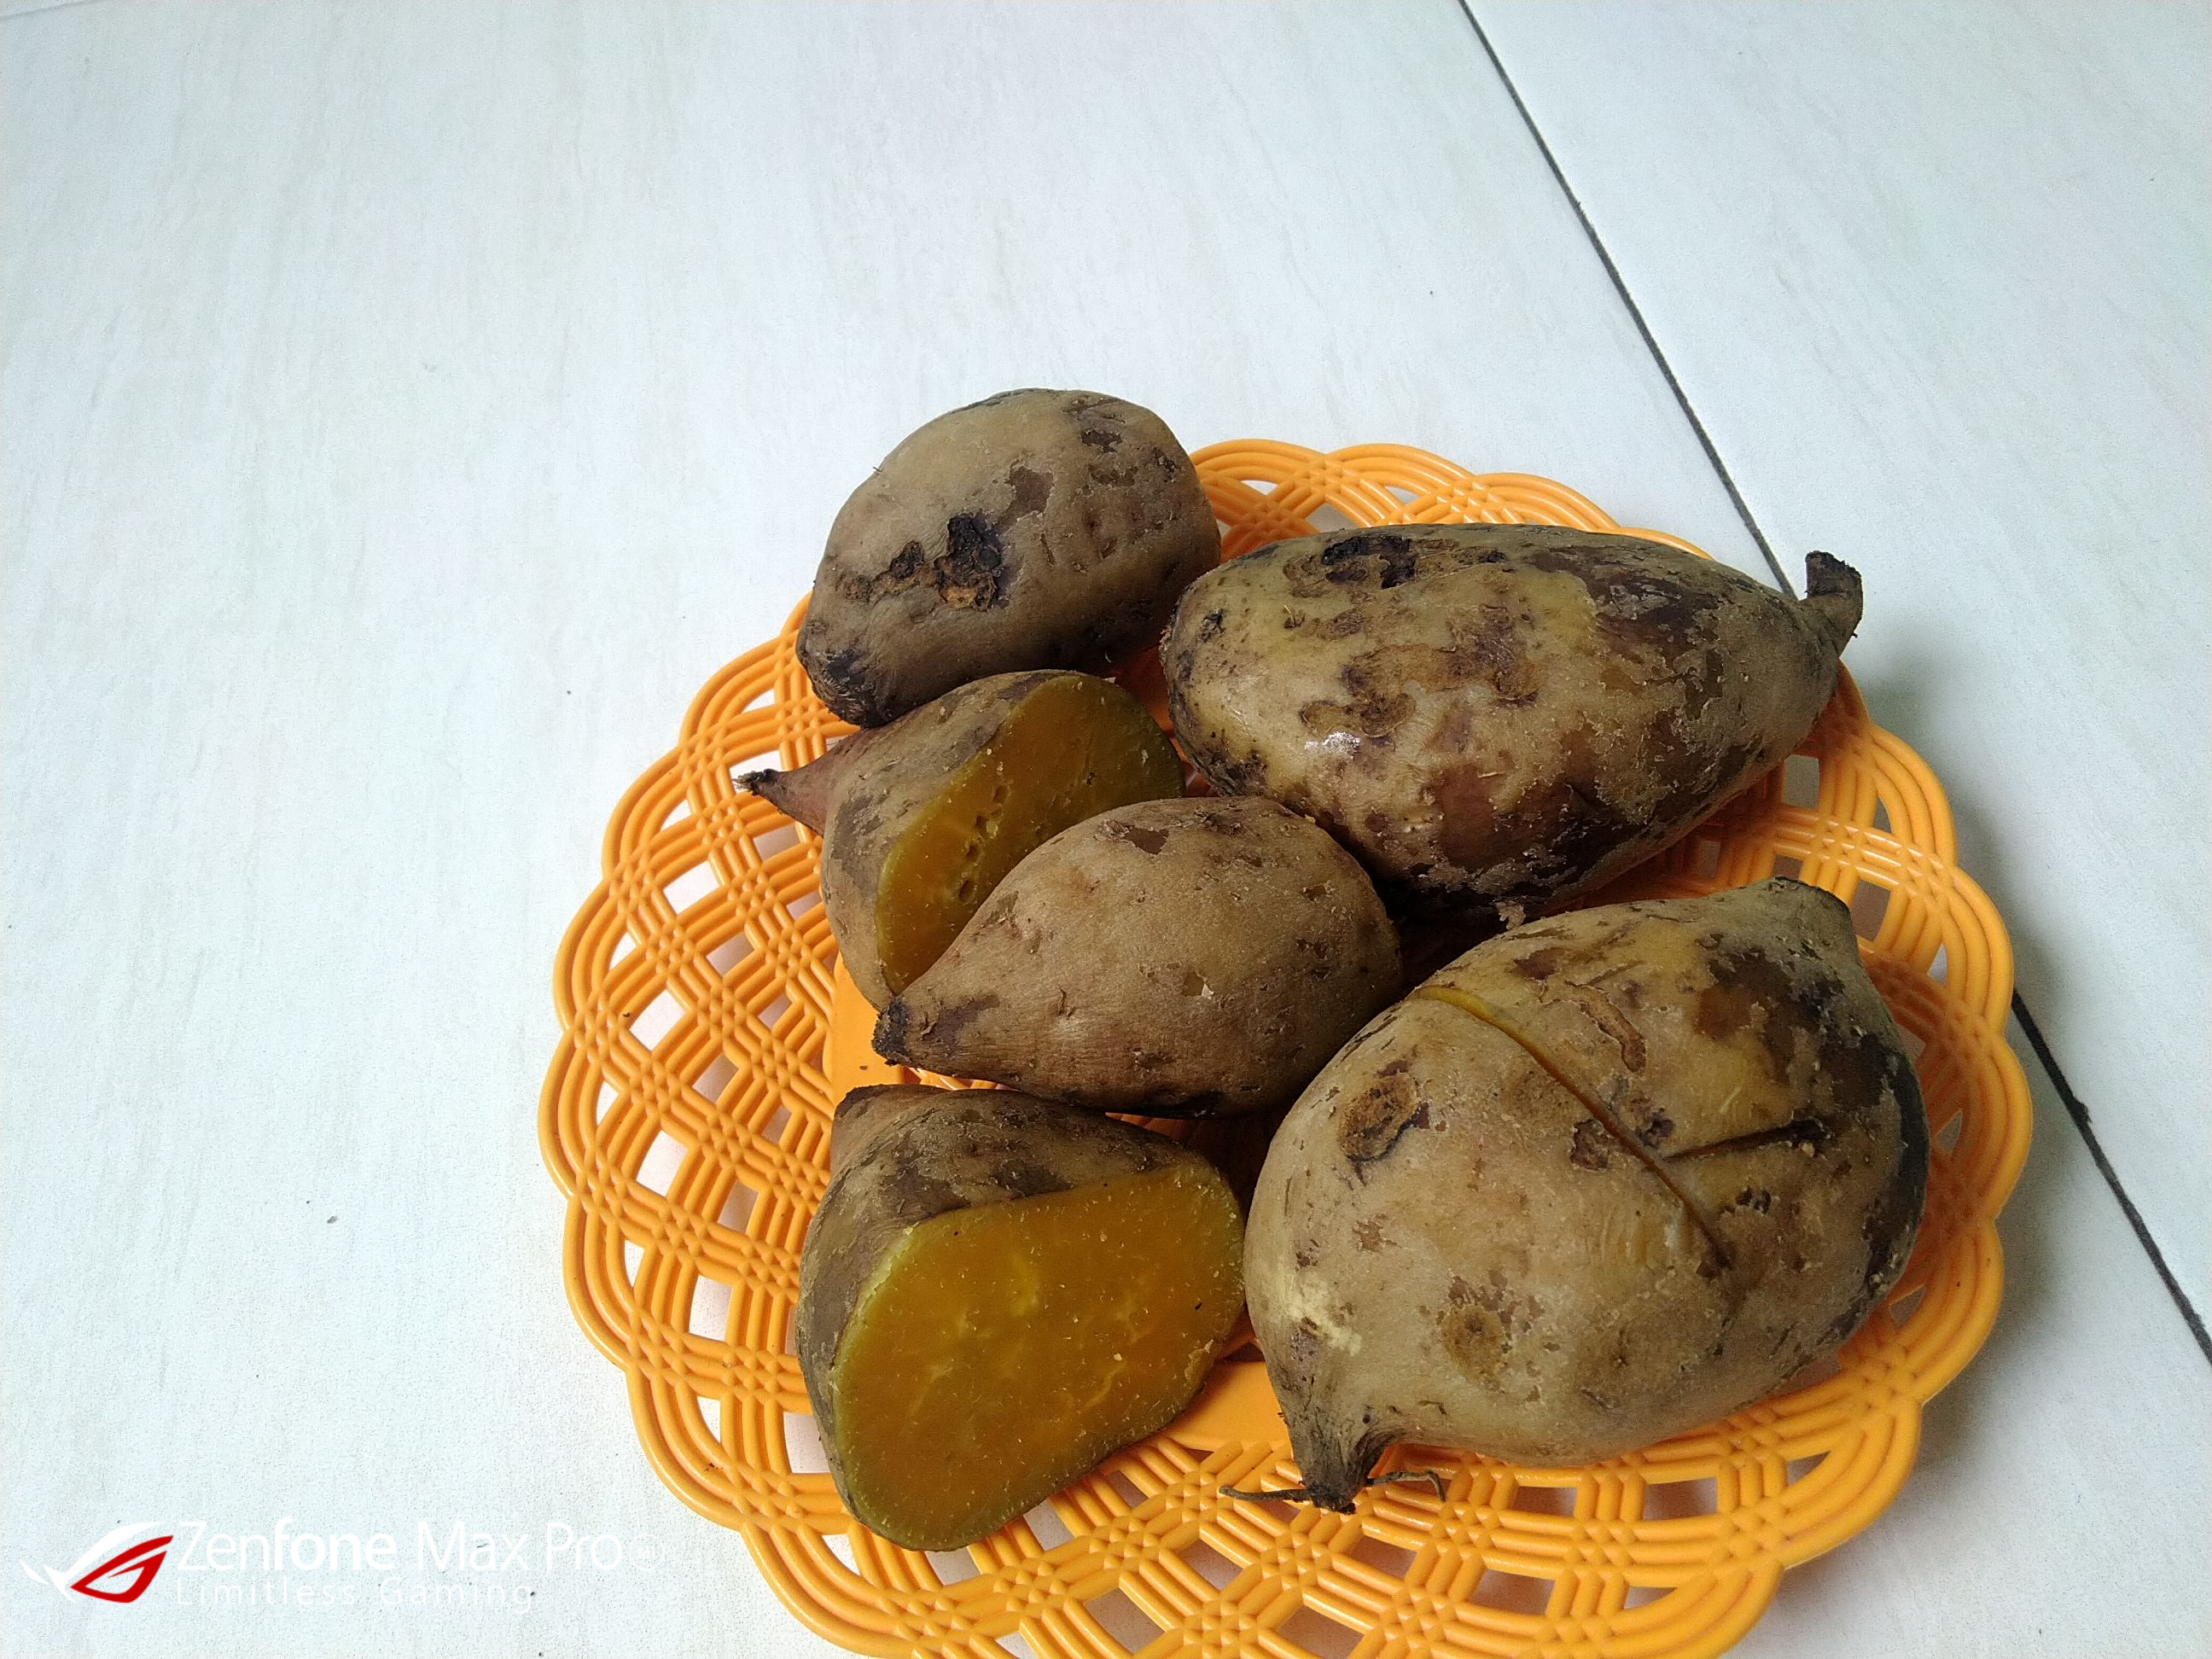ubi kuning: (1247, 873, 1909, 1520), (726, 669, 1369, 1131), (1167, 498, 1874, 901), (704, 1086, 1254, 1528), (791, 392, 1205, 697)
